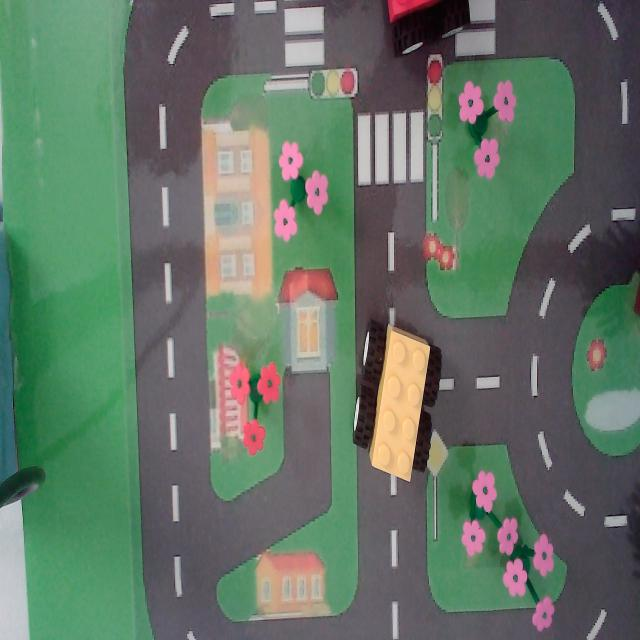Car: (330, 280, 454, 506)
Flower: (450, 57, 521, 205), (258, 129, 340, 253), (501, 522, 563, 630), (456, 461, 522, 561)
